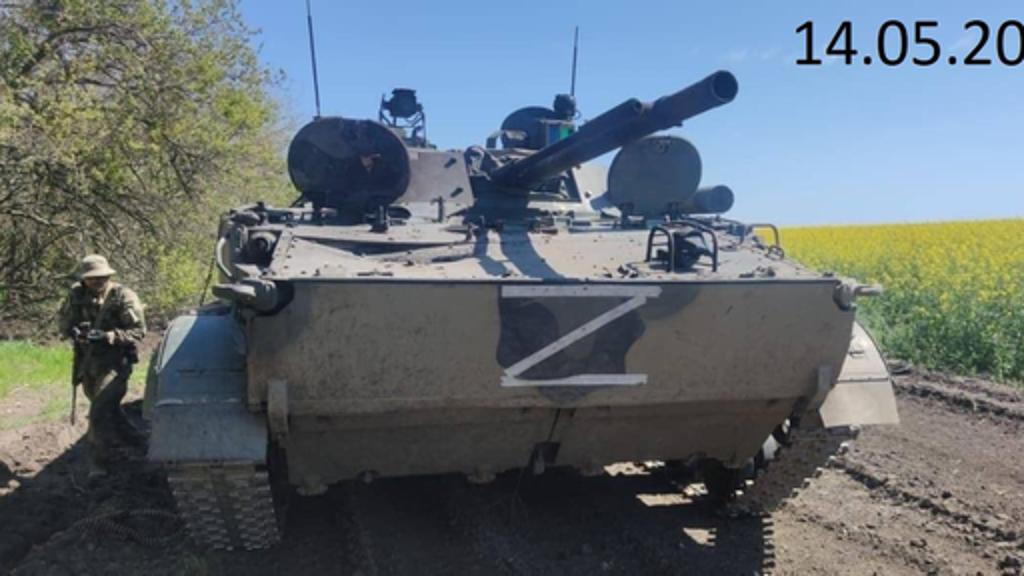APC-IFV: (122, 58, 902, 558)
